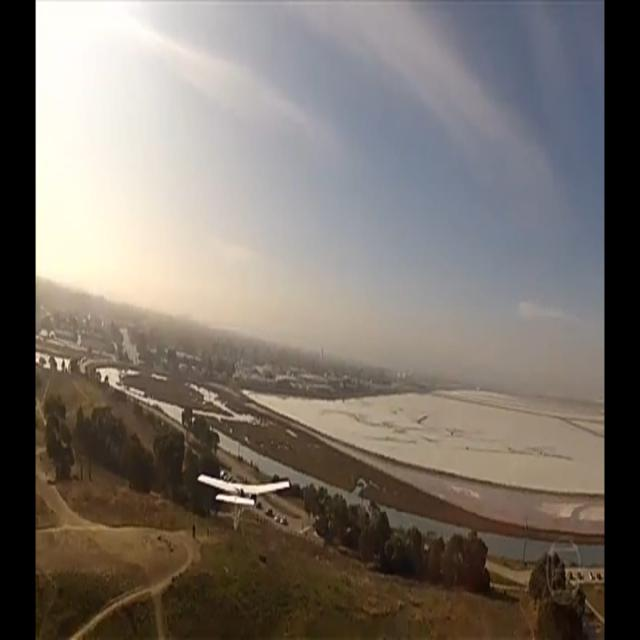iha: (229, 471, 258, 530)
